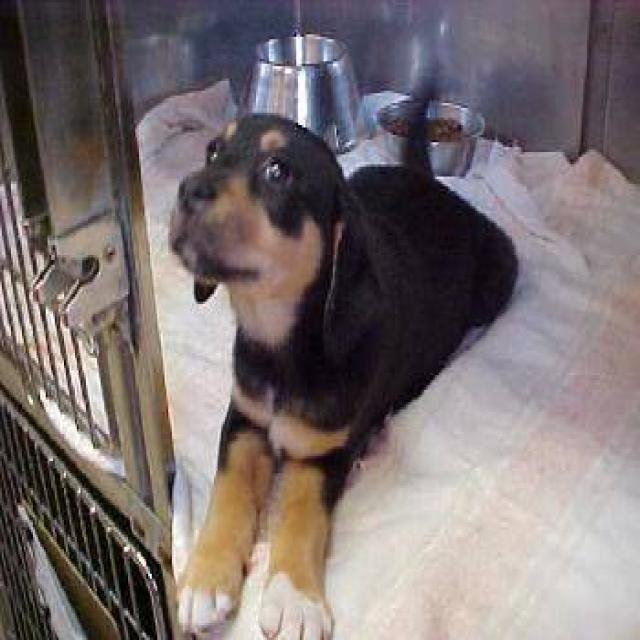Dog: (157, 98, 388, 380)
